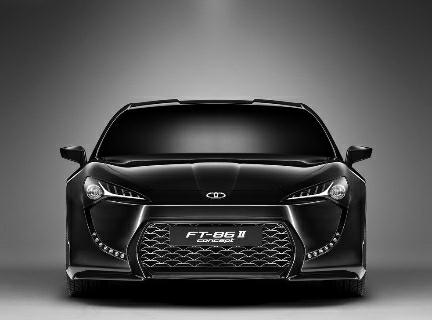丰田-FT-86: (56, 95, 378, 300)
